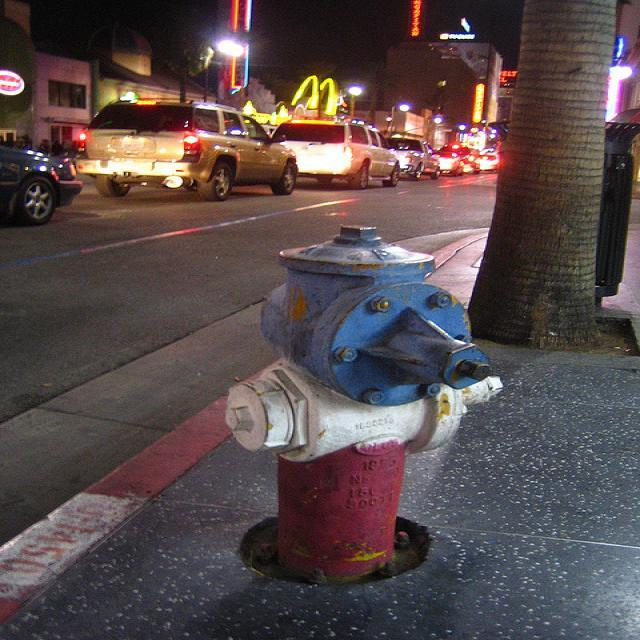fire_hydrant: (234, 223, 508, 594)
